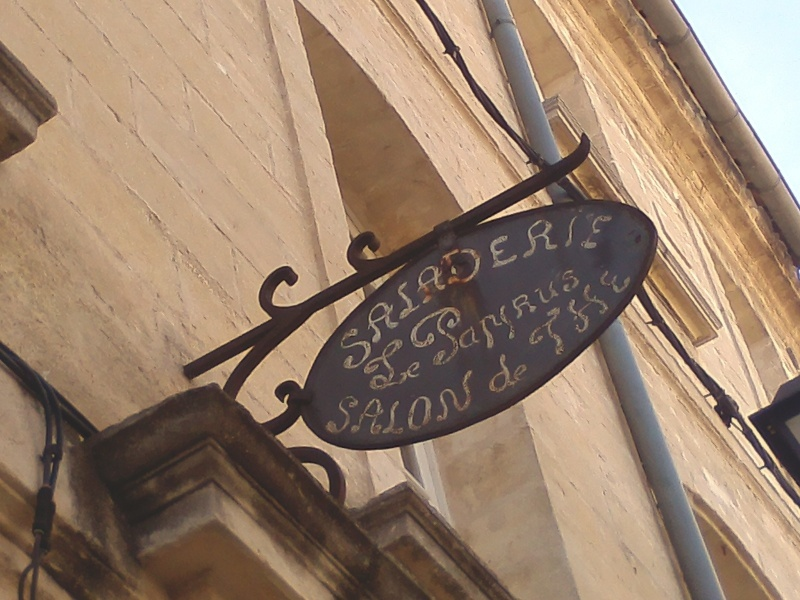text: (609, 182, 625, 377), (321, 182, 336, 377), (337, 182, 352, 377), (353, 182, 368, 377), (369, 182, 384, 377), (385, 182, 400, 377), (401, 182, 416, 377), (417, 182, 432, 377), (433, 182, 448, 377), (449, 182, 464, 377), (465, 182, 480, 377), (481, 182, 496, 377), (497, 182, 512, 377), (513, 182, 528, 377), (529, 182, 544, 377), (545, 182, 560, 377), (561, 182, 576, 377), (577, 182, 592, 377), (593, 182, 608, 377), (401, 250, 416, 382), (417, 250, 432, 382), (433, 250, 448, 382), (449, 250, 464, 382), (465, 250, 480, 382), (481, 250, 496, 382), (497, 250, 512, 382), (513, 250, 528, 382), (529, 250, 544, 382), (545, 250, 560, 382), (561, 250, 576, 382), (577, 250, 592, 382), (529, 260, 544, 372), (545, 260, 560, 372), (561, 260, 576, 372), (577, 260, 592, 372), (593, 260, 608, 372), (609, 260, 624, 372), (625, 260, 640, 372), (337, 367, 352, 438), (353, 367, 368, 438), (369, 367, 384, 438), (385, 367, 400, 438), (401, 367, 416, 438), (417, 367, 432, 438), (433, 367, 448, 438), (449, 367, 464, 438), (465, 367, 480, 438), (369, 326, 384, 394), (385, 326, 400, 394), (401, 326, 416, 394), (481, 345, 496, 401), (497, 345, 512, 401), (513, 345, 528, 401), (593, 250, 599, 382), (521, 260, 528, 372), (641, 260, 648, 372), (417, 326, 426, 394), (360, 326, 368, 394), (333, 367, 336, 438), (529, 345, 532, 401), (399, 250, 400, 382)
